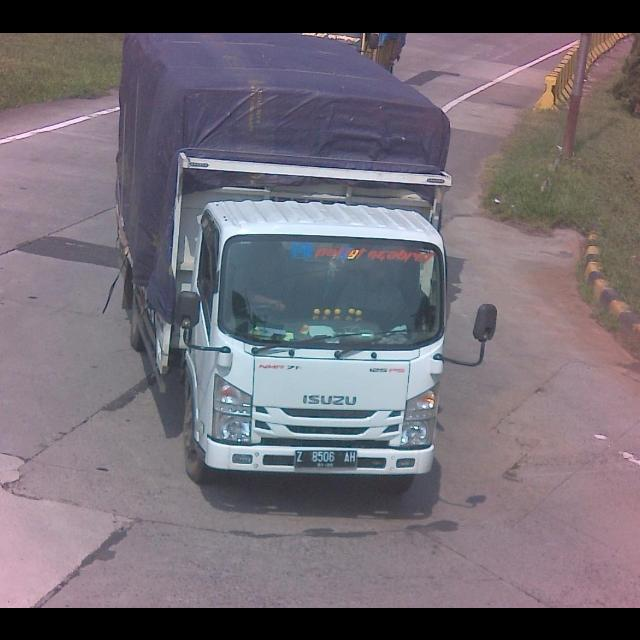plate: (291, 446, 361, 472)
